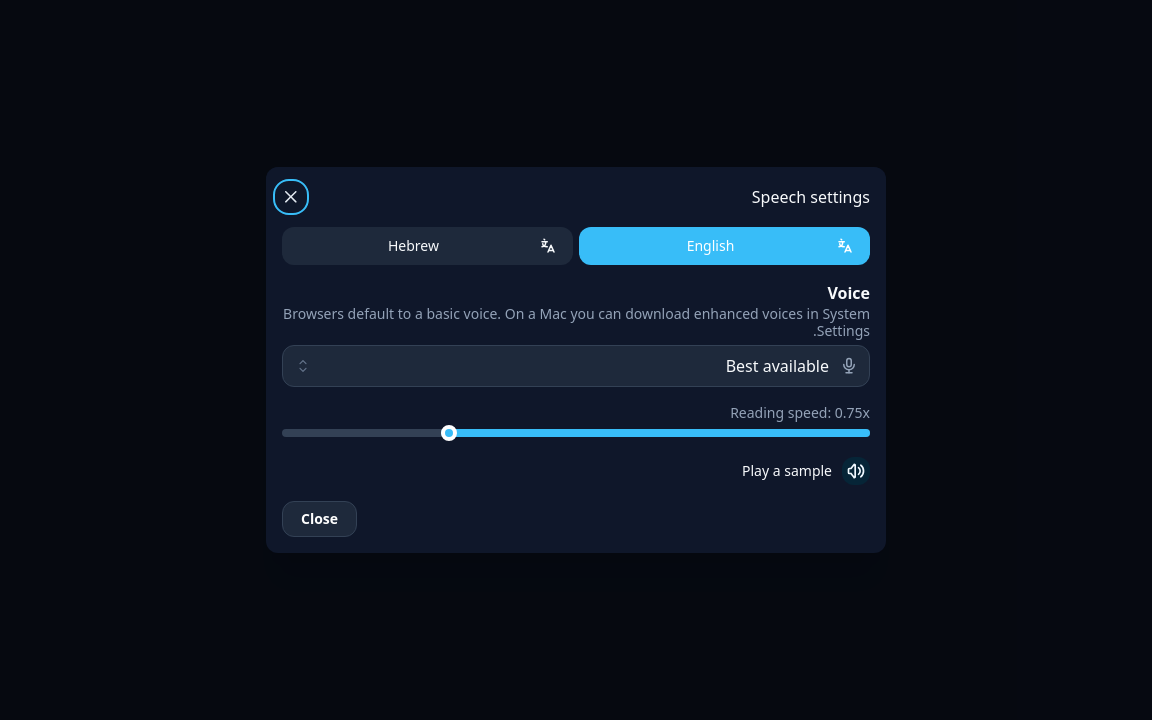
SpeechSettingsModal › English and Hebrew each get their own tab with an independent speed slider
This screenshot has width=1152, height=720.
expect the text "Reading speed: 0.75x" is shown: met, box [730,402,870,422]
Click the tab "Hebrew": [428, 246] box [282,227,573,265]
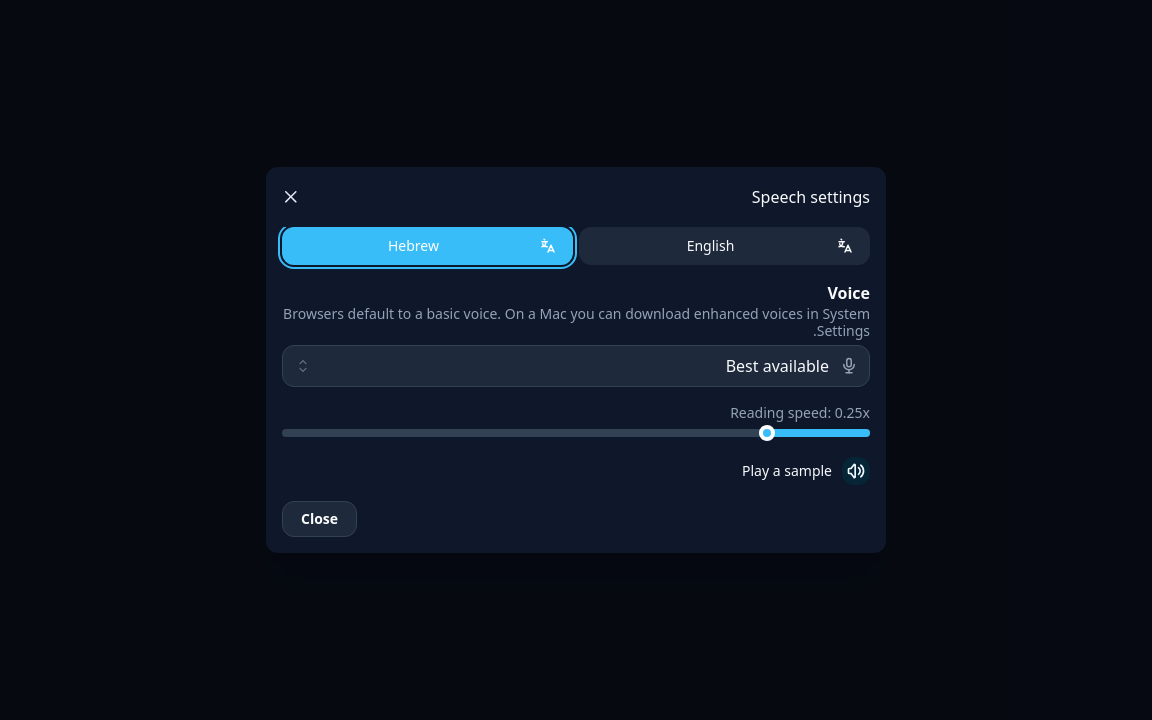
expect the text "Reading speed: 0.25x" is shown: met, box [730,402,870,422]
